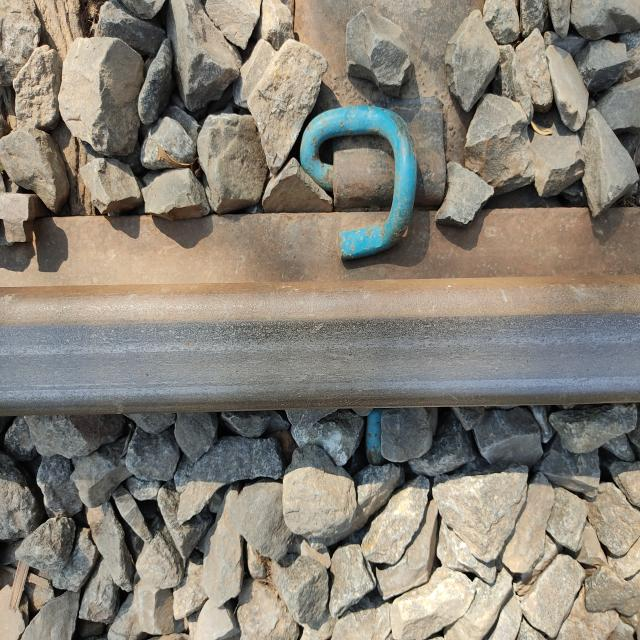non-defective: (289, 96, 472, 488)
